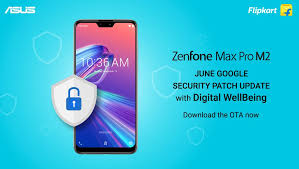asus: (69, 17, 141, 158)
